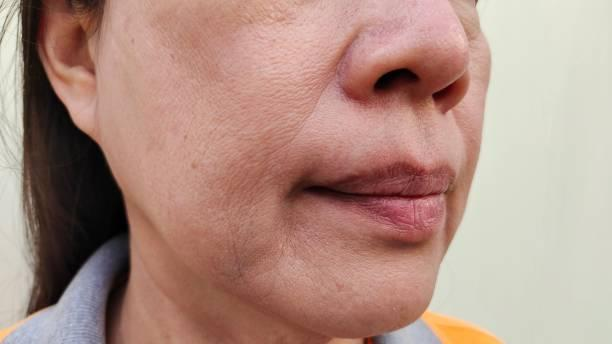Dry-Skin: (151, 132, 279, 236), (312, 211, 455, 276), (157, 25, 250, 121), (282, 49, 327, 236), (385, 0, 463, 105)
